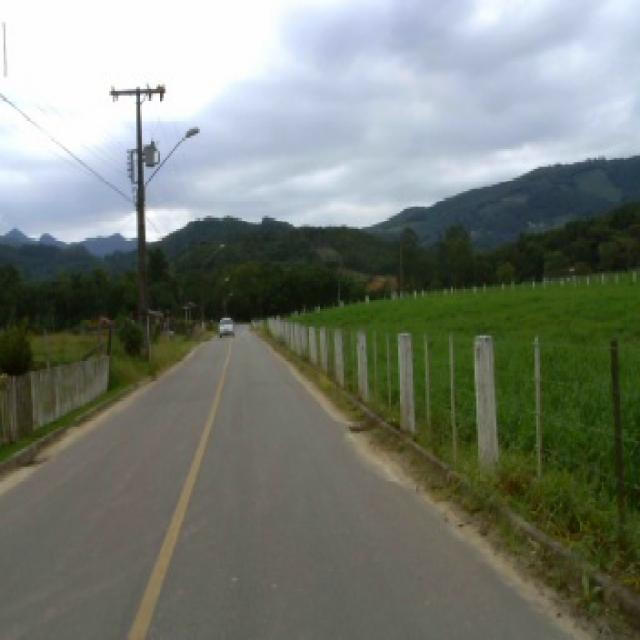Poth-hole: (346, 416, 376, 432), (15, 452, 48, 464)
